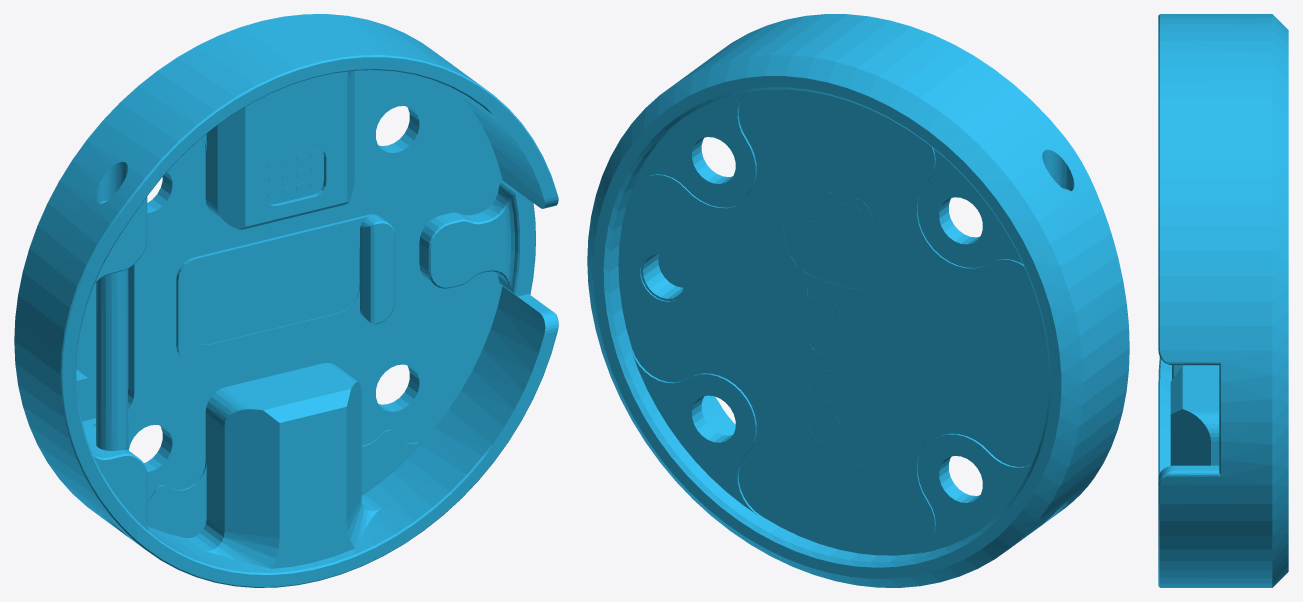
Rendered from quick_changer.dae.
3 renders of one model, left to right at view 1: azimuth 30°, elevation 25°; view 2: azimuth 150°, elevation 25°; view 3: azimuth 270°, elevation 25°, orthographic.
Visible parts, largest first — view 1: quick_changer; view 2: quick_changer; view 3: quick_changer.
Part boxes in pixels (x1=…): quick_changer: x1=14, y1=14, x2=558, y2=587; quick_changer: x1=587, y1=14, x2=1129, y2=587; quick_changer: x1=1158, y1=14, x2=1288, y2=587.
Size of the model in its own units: 0.071 by 0.0161 by 0.071.
